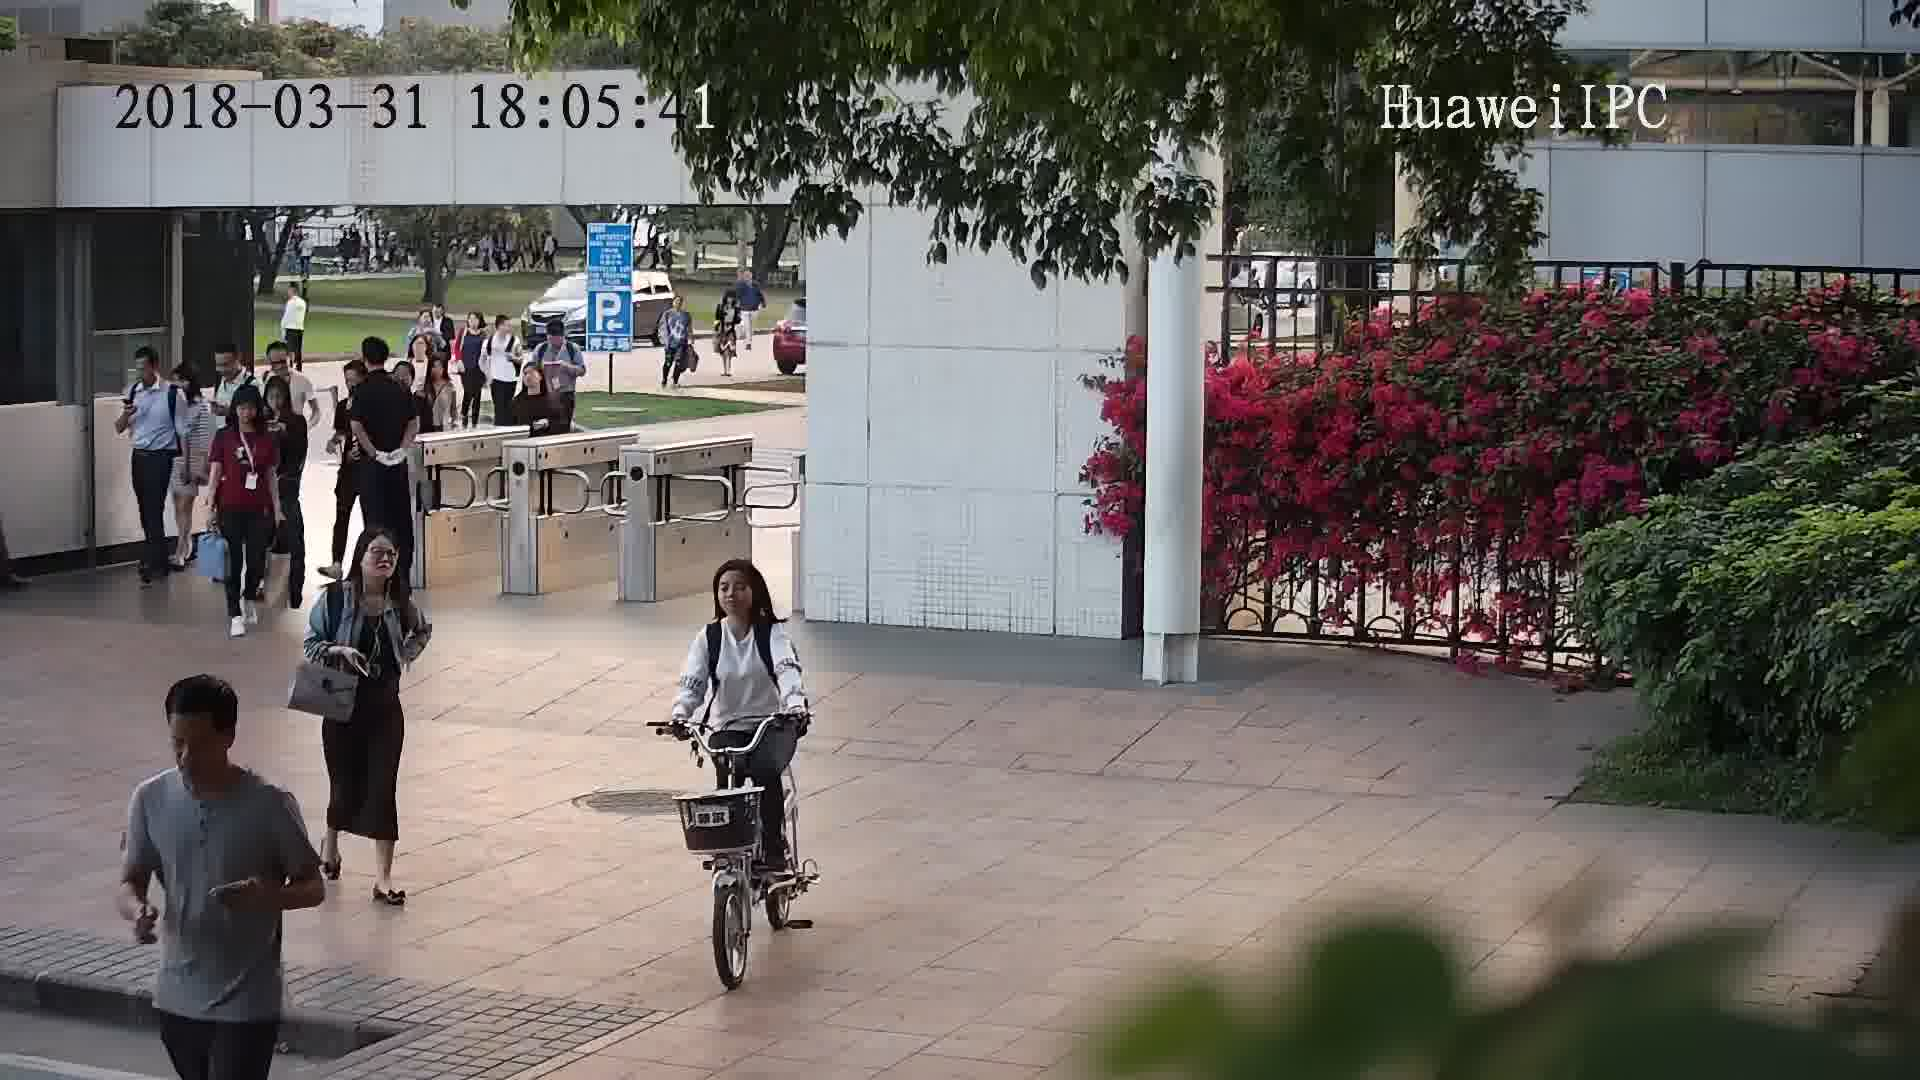face: (160, 706, 236, 782), (713, 569, 758, 614), (359, 538, 401, 580)
person: (122, 676, 290, 829), (692, 556, 792, 657), (315, 525, 418, 619), (215, 384, 278, 450), (353, 350, 413, 411), (170, 360, 215, 428), (128, 347, 178, 408), (257, 336, 310, 389), (211, 337, 259, 391), (260, 374, 305, 430), (512, 361, 560, 409), (415, 349, 460, 396), (535, 317, 583, 359), (405, 333, 436, 376), (408, 307, 443, 341), (487, 310, 520, 344), (459, 309, 488, 344), (427, 301, 457, 332), (280, 276, 309, 309), (715, 285, 743, 316), (666, 291, 691, 320)
